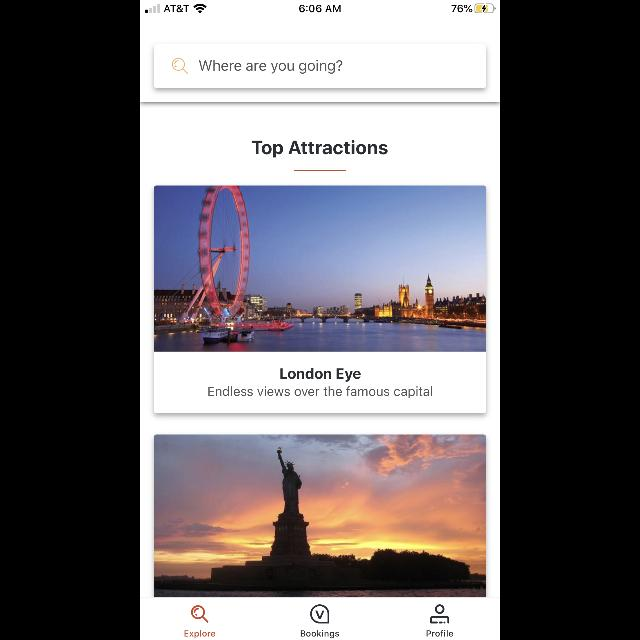icon: (430, 604, 450, 624), (172, 58, 188, 74), (192, 606, 208, 622)
image: (154, 186, 486, 352), (154, 435, 486, 597), (310, 604, 330, 624)
input: (154, 46, 486, 88)
text: (209, 386, 433, 398), (252, 140, 388, 158), (200, 60, 342, 74), (281, 368, 361, 382), (301, 630, 339, 638), (184, 630, 216, 638), (426, 630, 454, 636)
uppertaskbar: (140, 1, 500, 15)
